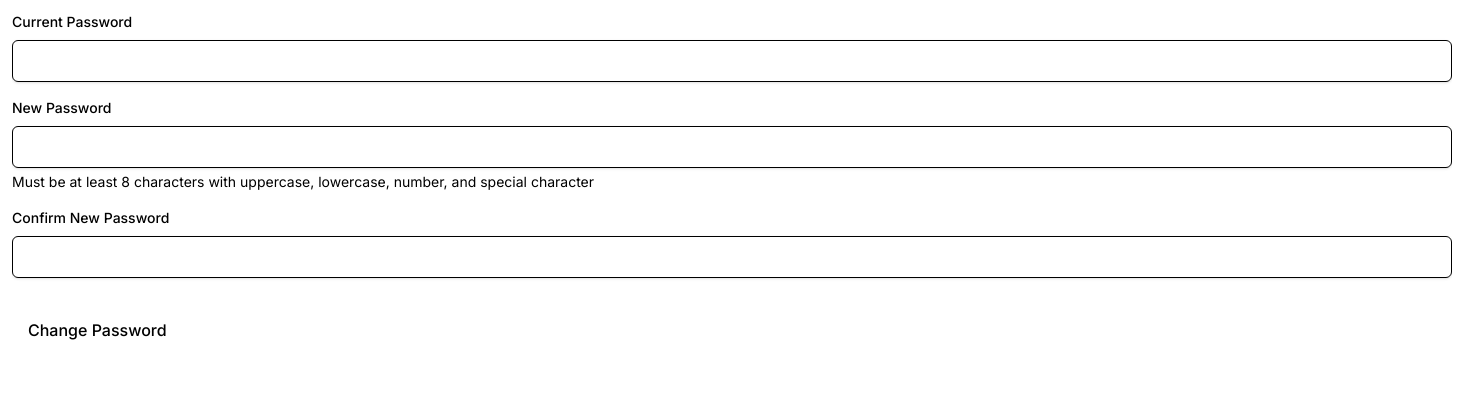
Test: ChangePasswordForm › clears error when user starts typing in field with error
Submit to trigger validation error
Click the button "Change Password" at (97, 330), box 12,310 -> 183,350
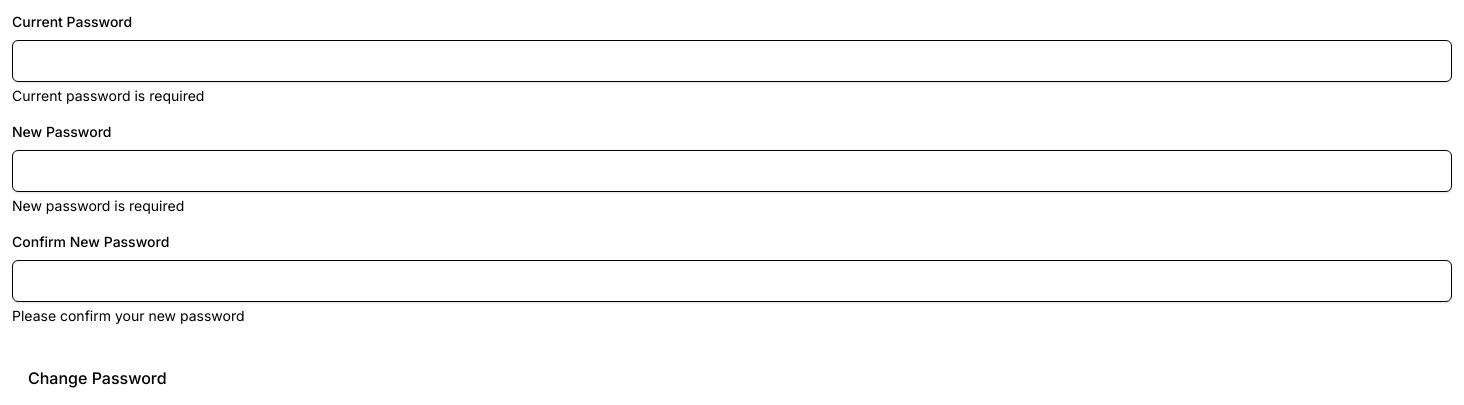
Expected: the text "Current password is required" is shown, 12,87 -> 204,104
Start typing to clear error
Type "oldPassword123!" into the password field labelled "Current Password" at (732, 61), box 12,40 -> 1452,82
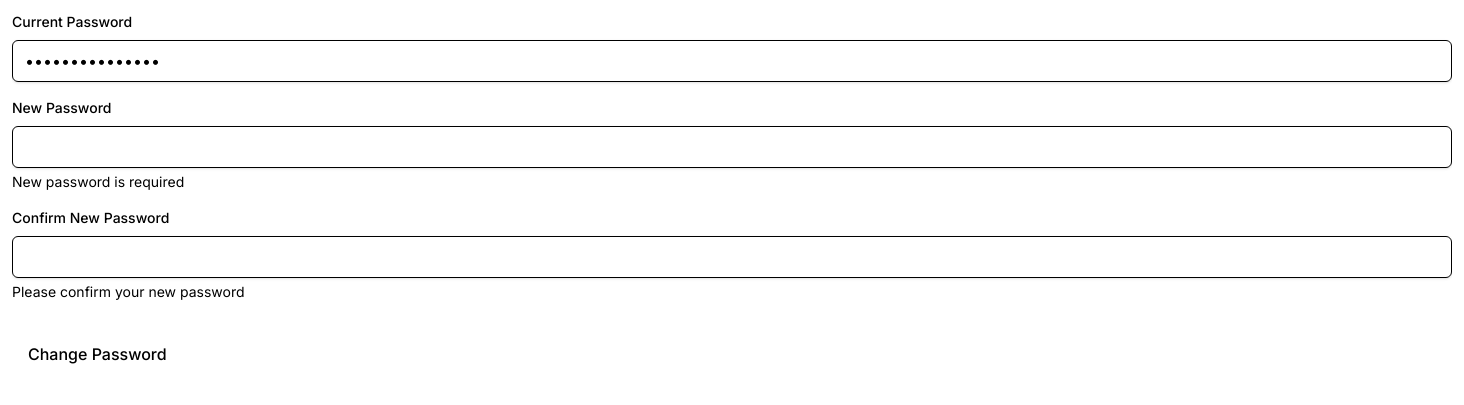
Expected: the text "Current password is required" is gone
